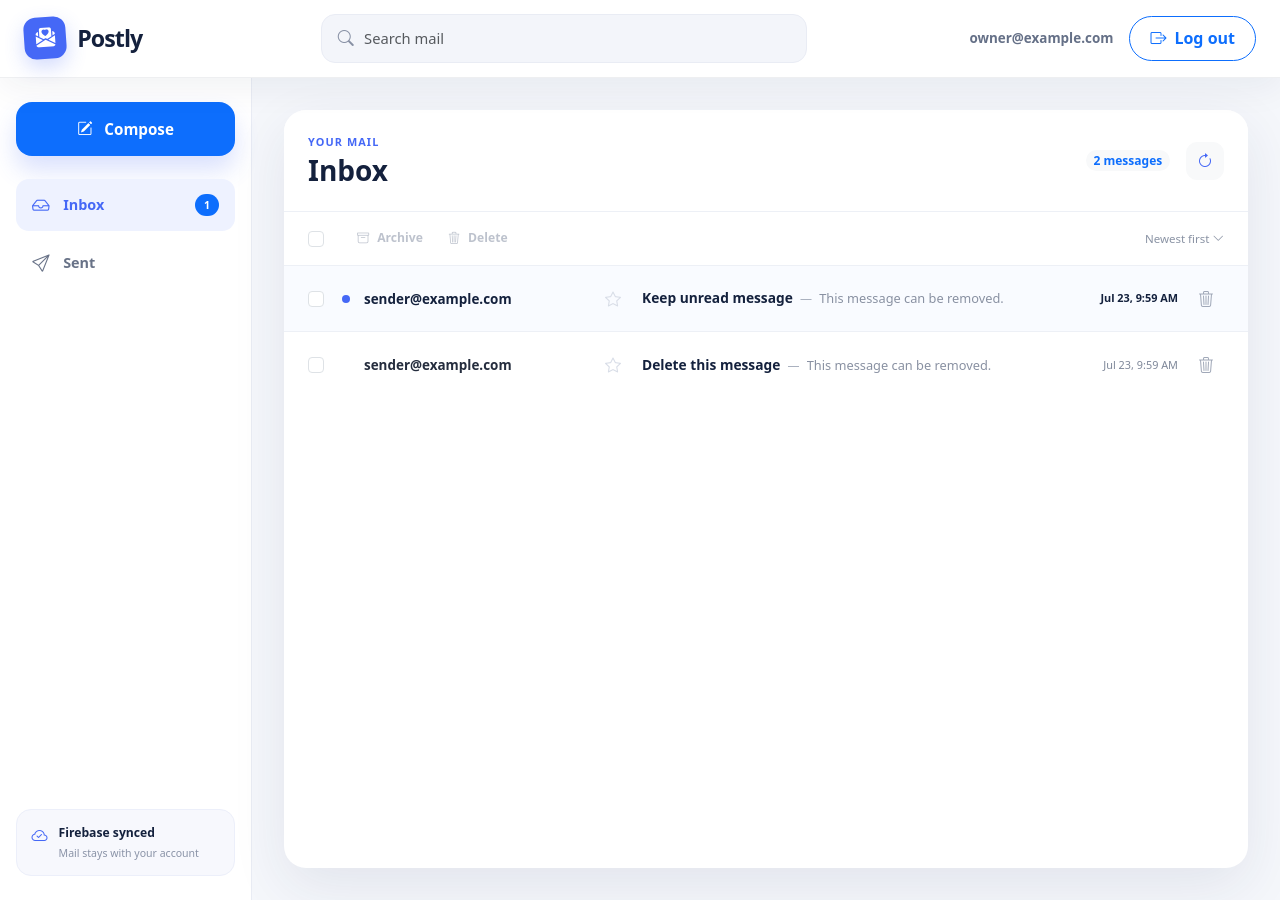
Test: Delete mail component › does not reduce the unread total when deleting a read message
Check: the heading "Keep unread message" is shown, box [642,290,793,306]
Check: the text with test id "inbox-unread-count" reads "1", box [204,198,210,212]
Click the button named "Delete message: Delete this message". click: click(1206, 365)
box: [1190,349,1222,381]
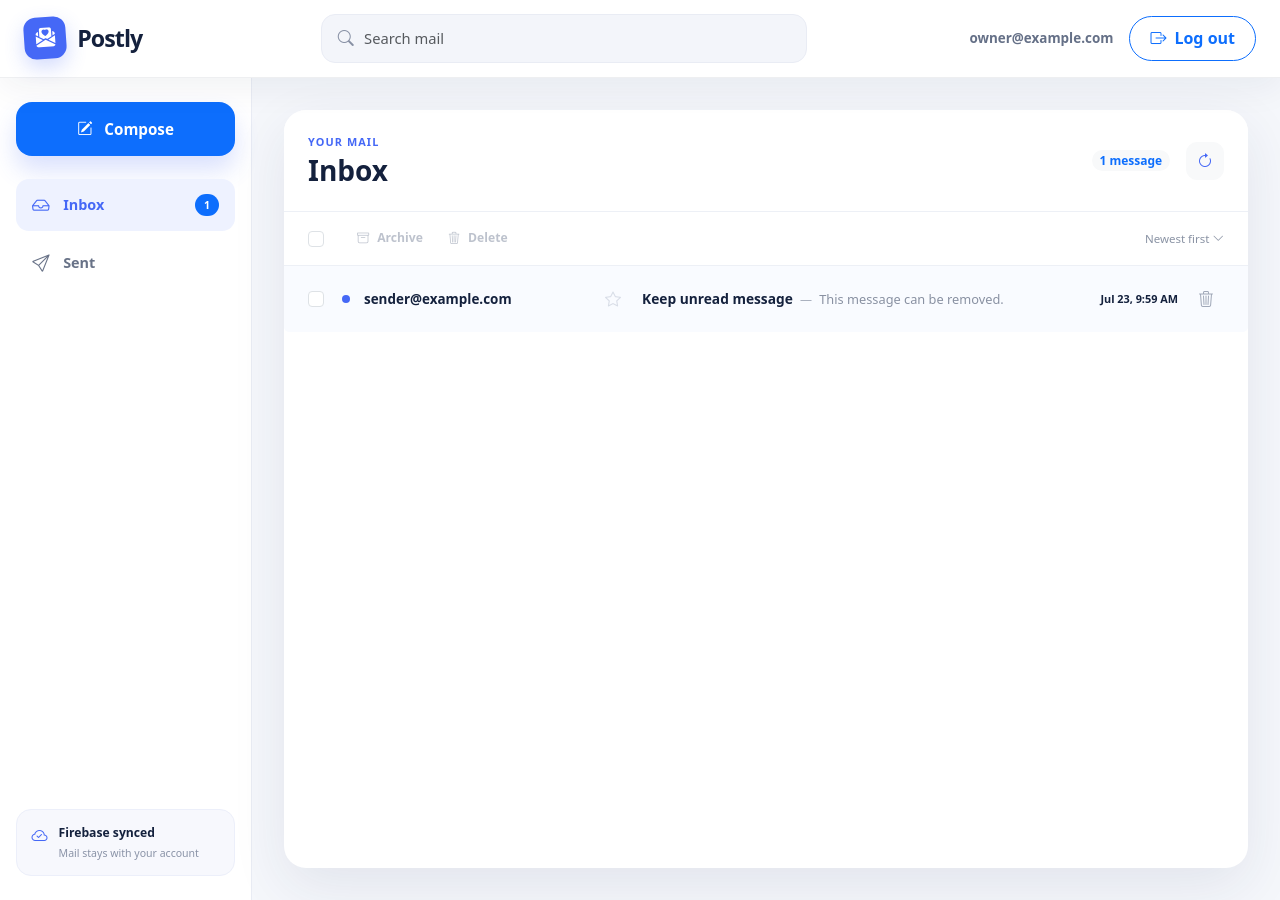
Check: the text with test id "inbox-unread-count" reads "1", box [204,198,210,212]
Check: the button "Delete this message" is gone
